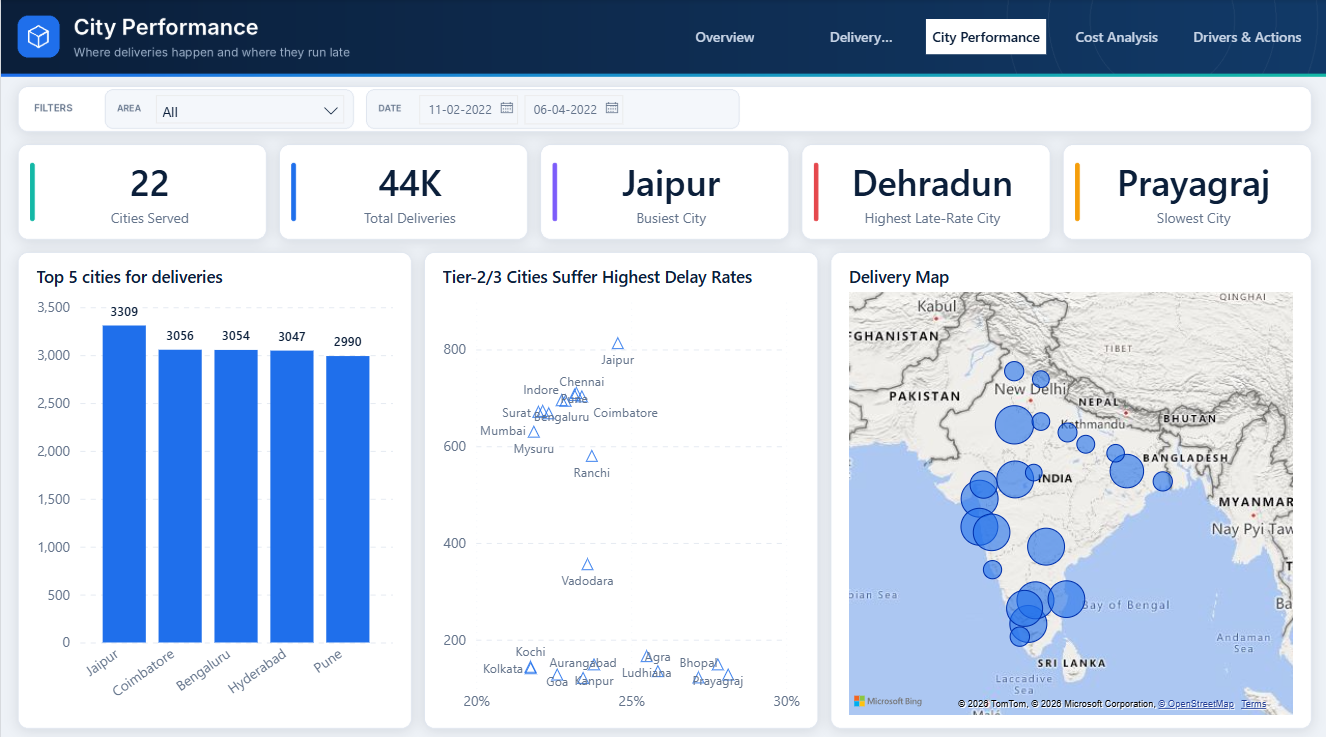

The dashboard page shown, as its layout file describes it:
{"tool":"powerbi","page":{"name":"City Performance","canvas":[1280,720],"ordinal":2},"visuals":[{"type":"card","fields":{"Values":["vw_delivery_analysis.Cities Served"]},"box":[38,144,210,84],"z":1000},{"type":"card","fields":{"Values":["vw_delivery_analysis.Total Deliveries"]},"box":[290,144,210,84],"z":2000},{"type":"card","fields":{"Values":["vw_delivery_analysis.Busiest City"]},"box":[542,144,210,84],"z":3000},{"type":"card","fields":{"Values":["vw_delivery_analysis.Highest Late-Rate City"]},"box":[794,144,210,84],"z":4000},{"type":"card","fields":{"Values":["vw_delivery_analysis.Slowest City"]},"box":[1046,144,210,84],"z":5000},{"type":"clusteredColumnChart","title":"Top 5 cities for deliveries","fields":{"Y":["CountNonNull(vw_delivery_analysis.delivery_id)"],"Category":["vw_delivery_analysis.city"]},"box":[24,250,364,448],"z":6000},{"type":"scatterChart","title":"Tier-2/3 Cities Suffer Highest Delay Rates","fields":{"Category":["vw_delivery_analysis.city"],"X":["vw_delivery_analysis.Late Rate"],"Y":["vw_delivery_analysis.Late Orders"]},"box":[416,250,364,448],"z":7000},{"type":"map","title":"Delivery Map","fields":{"Size":["CountNonNull(vw_delivery_analysis.delivery_id)"],"Category":["vw_delivery_analysis.city"]},"box":[808,250,448,448],"z":8000},{"type":"slicer","fields":{"Values":["vw_delivery_analysis.area"]},"box":[145,88,191,36],"z":9000},{"type":"slicer","fields":{"Values":["vw_delivery_analysis.order_date"]},"box":[396,88,312,36],"z":10000},{"type":"pageNavigator","box":[640,19,624,34],"z":11000}]}

Visuals, with their boxes in screenshot pixels (x1, y1, x2, y2), scaled from the page's 1280x720 canvas onto the 1326x737 screenshot:
card - vw_delivery_analysis.Cities Served: 39/147/257/233
card - vw_delivery_analysis.Total Deliveries: 300/147/518/233
card - vw_delivery_analysis.Busiest City: 561/147/779/233
card - vw_delivery_analysis.Highest Late-Rate City: 823/147/1040/233
card - vw_delivery_analysis.Slowest City: 1084/147/1301/233
"Top 5 cities for deliveries" clusteredColumnChart: 25/256/402/714
"Tier-2/3 Cities Suffer Highest Delay Rates" scatterChart: 431/256/808/714
"Delivery Map" map: 837/256/1301/714
slicer - vw_delivery_analysis.area: 150/90/348/127
slicer - vw_delivery_analysis.order_date: 410/90/733/127
pageNavigator: 663/19/1309/54
